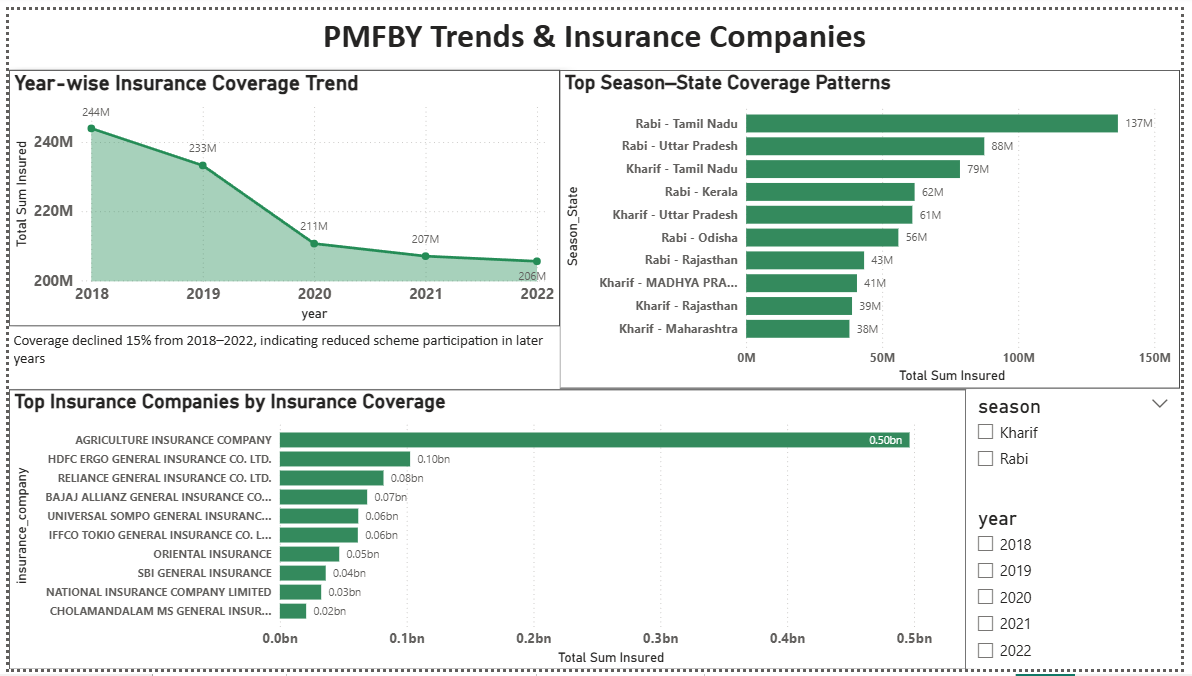

What the dashboard file says about the page in this screenshot:
{"tool":"powerbi","page":{"name":"Trends & Insurance Companies","canvas":[1280,720],"ordinal":4},"visuals":[{"type":"lineChart","title":"Year-wise Insurance Coverage Trend","fields":{"Category":["PMFBY_crop_insurance_analytics_dashboard.year"],"Y":["PMFBY_crop_insurance_analytics_dashboard.Total Sum Insured"]},"box":[0,61.7,601.7,285],"z":0},{"type":"clusteredBarChart","title":"Top Insurance Companies by Insurance Coverage","fields":{"Category":["PMFBY_crop_insurance_analytics_dashboard.insurance_company"],"Y":["PMFBY_crop_insurance_analytics_dashboard.Total Sum Insured"]},"box":[0,414.5,602.4,306],"z":1000},{"type":"clusteredBarChart","title":"Top Season–State Coverage Patterns","fields":{"Category":["PMFBY_crop_insurance_analytics_dashboard.Season_State"],"Y":["PMFBY_crop_insurance_analytics_dashboard.Total Sum Insured"]},"box":[601.7,218.3,678.3,501.7],"z":2000},{"type":"textbox","box":[0,0,1280,62],"z":3000},{"type":"slicer","fields":{"Values":["PMFBY_crop_insurance_analytics_dashboard.season"]},"box":[601.7,66.7,178.3,151.7],"z":4000},{"type":"slicer","fields":{"Values":["PMFBY_crop_insurance_analytics_dashboard.year"]},"box":[780,66.7,233.3,156.7],"z":5000},{"type":"textbox","box":[0,346,602,68],"z":6000},{"type":"textbox","box":[1013.3,68.3,266.7,150],"z":7000}]}

Visuals, with their boxes in screenshot pixels (x1, y1, x2, y2), scaled from the page's 1280x720 canvas onto the 1192x676 screenshot:
"Year-wise Insurance Coverage Trend" lineChart: region(0, 58, 560, 326)
"Top Insurance Companies by Insurance Coverage" clusteredBarChart: region(0, 389, 561, 675)
"Top Season–State Coverage Patterns" clusteredBarChart: region(560, 205, 1191, 675)
textbox: region(0, 0, 1191, 58)
slicer - PMFBY_crop_insurance_analytics_dashboard.season: region(560, 63, 726, 205)
slicer - PMFBY_crop_insurance_analytics_dashboard.year: region(726, 63, 944, 210)
textbox: region(0, 325, 561, 389)
textbox: region(944, 64, 1191, 205)
